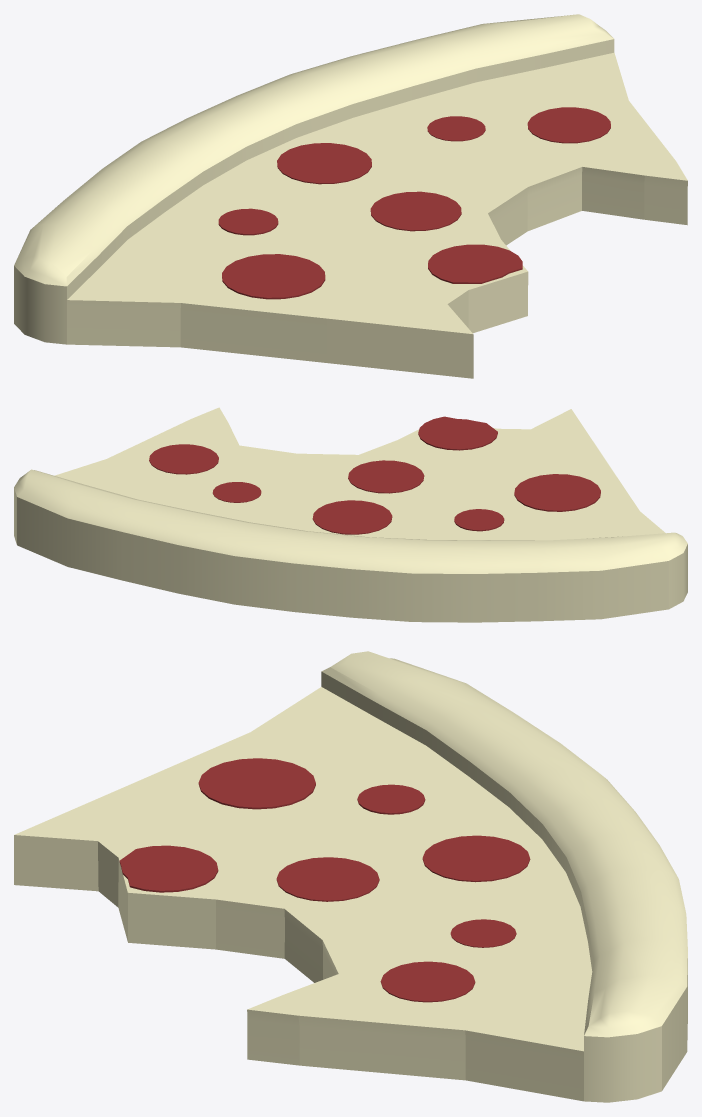
Rendered from AW_BittenPizza08_DF.fbx.
The picture shows the model from 3 angles, top to bottom: view 1: azimuth 30°, elevation 25°; view 2: azimuth 150°, elevation 25°; view 3: azimuth 270°, elevation 25°; orthographic projection. The views are drawn at different scales.
Parts seen in each view (by area): view 1: pCube5; view 2: pCube5; view 3: pCube5.
Part boxes in pixels (bbox=[...]): pCube5: bbox=[14, 14, 687, 378]; pCube5: bbox=[14, 407, 687, 622]; pCube5: bbox=[14, 651, 687, 1102].
Size of what is drawn, in the model's own units: 0.4269 by 0.043 by 0.322.
